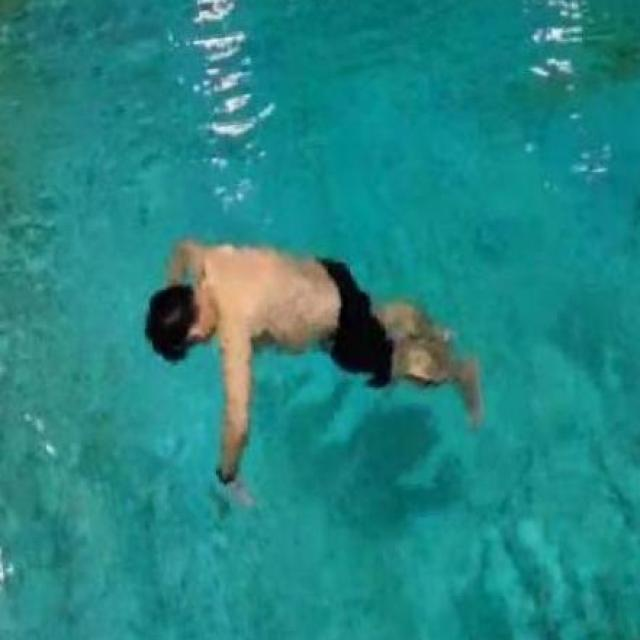Drowning: (149, 231, 485, 497)
